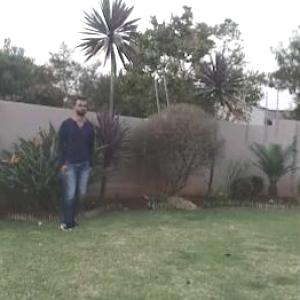follow: (55, 95, 95, 231)
